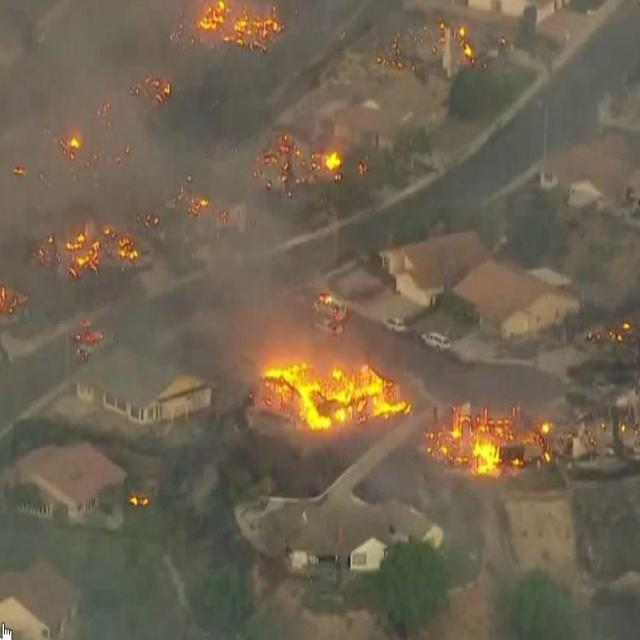Fire: (454, 386, 563, 516), (262, 123, 382, 222), (265, 358, 412, 433), (63, 184, 141, 293), (191, 0, 303, 73), (442, 19, 478, 76), (125, 477, 159, 517), (54, 128, 83, 162), (476, 442, 500, 477)
Smoke: (1, 0, 94, 99), (172, 237, 256, 343)
